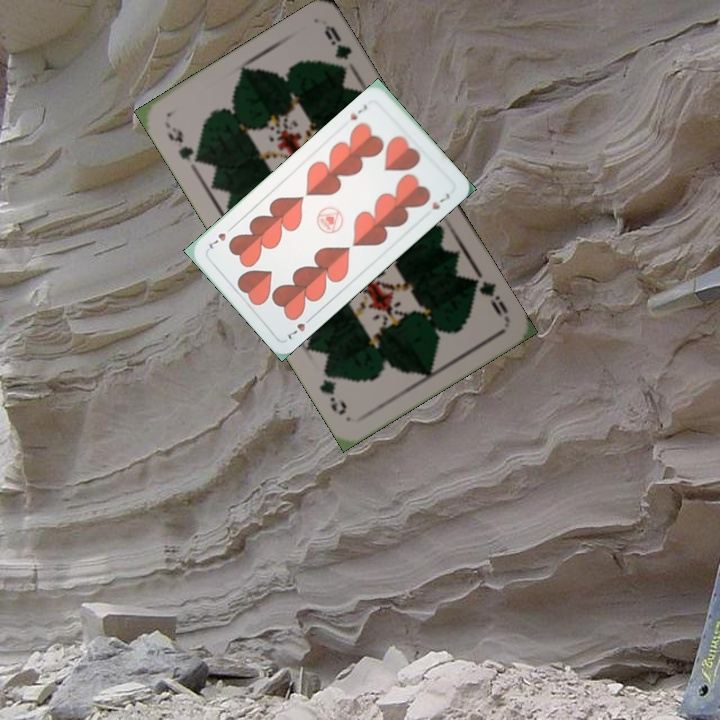G9: (465, 268, 511, 322), (161, 119, 206, 173)
H7: (282, 312, 316, 343), (346, 100, 370, 123)
